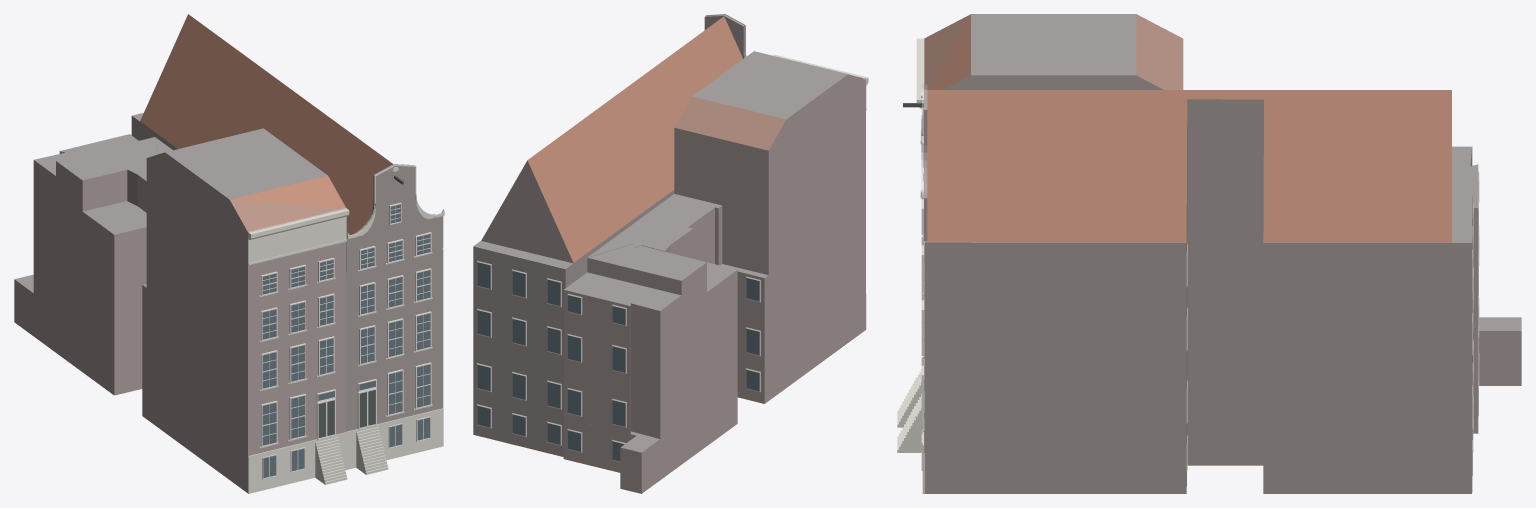
File: chunk-face-keizersgracht-596-648-r2.glb
3 views of the same model, side by side, from view 1: azimuth 30°, elevation 25°; view 2: azimuth 150°, elevation 25°; view 3: azimuth 270°, elevation 25° (orthographic). The views are drawn at different scales.
Visible parts, largest first — view 1: face-keizersgracht-596-648-r2; view 2: face-keizersgracht-596-648-r2; view 3: face-keizersgracht-596-648-r2.
Part boxes in pixels (x1,y1,x2,y2): face-keizersgracht-596-648-r2: (14,14,444,493); face-keizersgracht-596-648-r2: (473,14,868,493); face-keizersgracht-596-648-r2: (897,14,1521,493).
Bounding box in the file's own units: 15.02 × 21.56 × 32.54.
